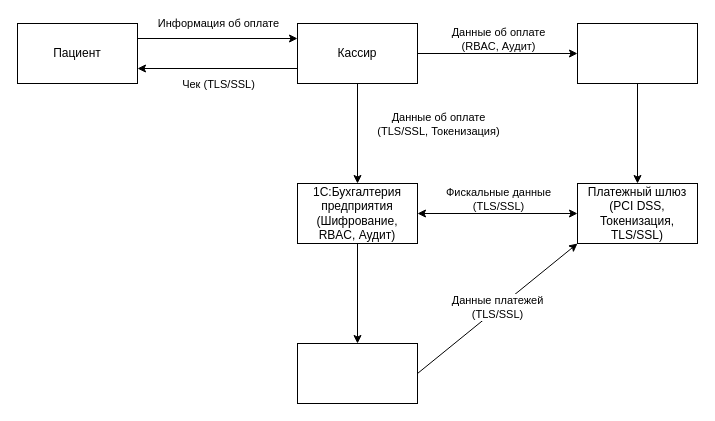
Image size: 715x421. Some labels were removed from this diagram. Here are the shapes that lost their labels. From the top down, the centre of each, then its label:
At [637,53]: "CRM-система (Шифрование, RBAC, Аудит)".
At [357,373]: "ККМ (Шифрование, TLS/SSL)".
